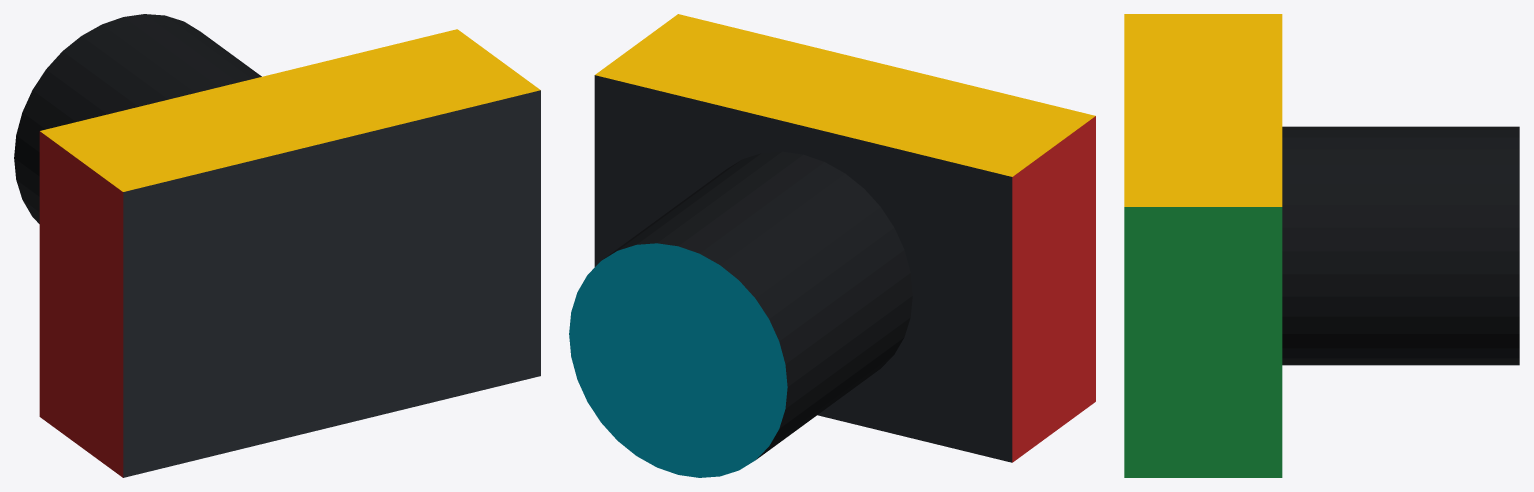
Rendered from camera_sensor.glb.
3 views of the same model, side by side, from view 1: azimuth 30°, elevation 25°; view 2: azimuth 150°, elevation 25°; view 3: azimuth 270°, elevation 25° (orthographic). The views are drawn at different scales.
Visible parts, largest first — view 1: Body_FrontBackBottom, Body_Top_Yellow, Body_Port_Red, Lens_Barrel; view 2: Body_FrontBackBottom, Lens_Barrel, Lens_Front_Cyan, Body_Top_Yellow, Body_Port_Red; view 3: Lens_Barrel, Body_Starboard_Green, Body_Top_Yellow.
Boxes of the visible parts, x1,y1,x2,y2 form: Body_FrontBackBottom: (123, 90, 540, 477); Body_Top_Yellow: (40, 29, 540, 191); Body_Port_Red: (39, 131, 123, 477); Lens_Barrel: (14, 14, 261, 223); Body_FrontBackBottom: (594, 75, 1012, 462); Lens_Barrel: (603, 151, 912, 459); Lens_Front_Cyan: (569, 243, 787, 477); Body_Top_Yellow: (595, 14, 1095, 176); Body_Port_Red: (1012, 116, 1095, 462); Lens_Barrel: (1282, 126, 1519, 365); Body_Starboard_Green: (1124, 207, 1282, 477); Body_Top_Yellow: (1124, 14, 1282, 206).
Bounding box in the file's own units: 0.13 × 0.085 × 0.1125.
